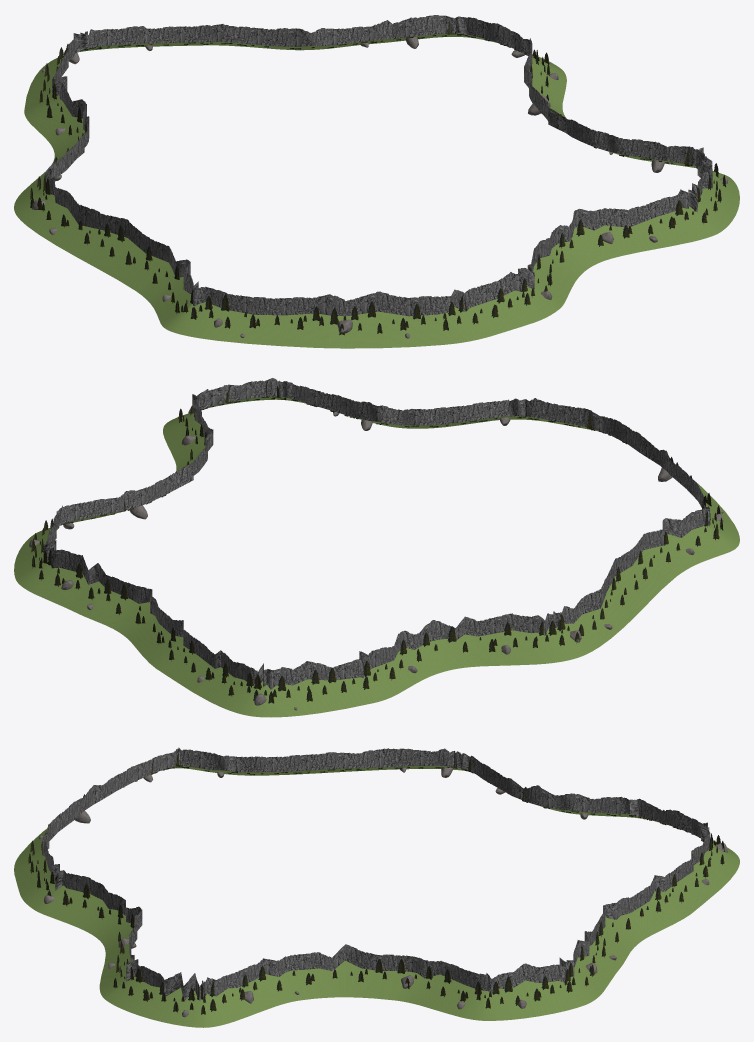
3 views of the same model, one above another, from view 1: azimuth 30°, elevation 25°; view 2: azimuth 150°, elevation 25°; view 3: azimuth 270°, elevation 25° (orthographic). The views are drawn at different scales.
Visible parts, largest first — view 1: Wall_02, Wall_03, Wall_01, Wall_00, Wall_07, Wall_05, Wall_09, Wall_04, Wall_06, Wall_08, Trees_02, Trees_01 (+2 smaller); view 2: Wall_09, Wall_08, Wall_07, Wall_00, Wall_03, Wall_06, Wall_01, Wall_05, Wall_02, Wall_04, Trees_08, Trees_09 (+3 smaller); view 3: Wall_05, Wall_07, Wall_06, Wall_04, Wall_03, Wall_00, Wall_09, Wall_08, Wall_02, Wall_01, Trees_05, Trees_06 (+3 smaller).
Boxes of the visible parts, left/top/right/bottom form: Wall_02: left=328, top=272, right=546, bottom=348; Wall_03: left=518, top=194, right=695, bottom=317; Wall_01: left=149, top=259, right=330, bottom=348; Wall_00: left=16, top=176, right=186, bottom=302; Wall_07: left=140, top=20, right=392, bottom=50; Wall_05: left=524, top=47, right=677, bottom=165; Wall_09: left=14, top=76, right=89, bottom=214; Wall_04: left=667, top=145, right=739, bottom=240; Wall_06: left=387, top=15, right=566, bottom=79; Wall_08: left=24, top=26, right=143, bottom=115; Trees_02: left=330, top=288, right=530, bottom=335; Trees_01: left=168, top=282, right=323, bottom=329; Wall_09: left=359, top=611, right=583, bottom=699; Wall_08: left=193, top=650, right=383, bottom=717; Wall_07: left=67, top=563, right=220, bottom=692; Wall_00: left=560, top=523, right=691, bottom=655; Wall_03: left=292, top=383, right=529, bottom=428; Wall_06: left=14, top=505, right=88, bottom=608; Wall_01: left=662, top=451, right=739, bottom=566; Wall_05: left=62, top=412, right=213, bottom=524; Wall_02: left=525, top=398, right=692, bottom=479; Wall_04: left=163, top=378, right=305, bottom=446; Trees_08: left=205, top=663, right=369, bottom=703; Trees_09: left=364, top=620, right=564, bottom=681; Wall_05: left=228, top=944, right=477, bottom=1017; Wall_07: left=584, top=851, right=720, bottom=973; Wall_06: left=463, top=940, right=615, bottom=1020; Wall_04: left=99, top=955, right=249, bottom=1027; Wall_03: left=24, top=864, right=142, bottom=986; Wall_00: left=229, top=748, right=460, bottom=775; Wall_09: left=453, top=751, right=642, bottom=818; Wall_08: left=630, top=798, right=739, bottom=889; Wall_02: left=14, top=786, right=93, bottom=901; Wall_01: left=93, top=747, right=234, bottom=804; Trees_05: left=239, top=958, right=468, bottom=1001; Trees_06: left=474, top=947, right=595, bottom=1008.
Size of what is drawn, in the model's own units: 491 by 34.4 by 581.
